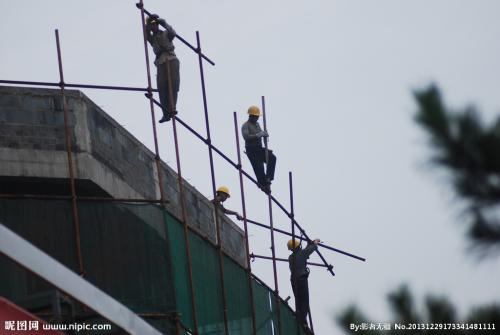boots: (159, 114, 171, 123)
gloves: (157, 18, 166, 26)
hard-hat: (216, 186, 230, 197), (247, 105, 260, 116), (287, 239, 300, 250), (147, 13, 159, 23)
person: (145, 14, 181, 123), (287, 238, 321, 333), (241, 105, 277, 194), (210, 186, 244, 221)
